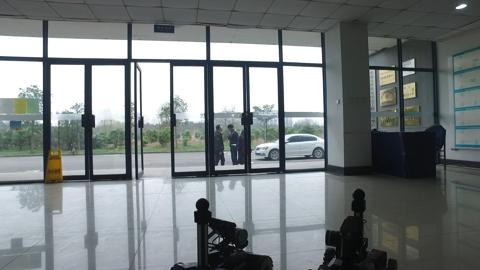chariot: (167, 197, 275, 269), (310, 187, 398, 269)
